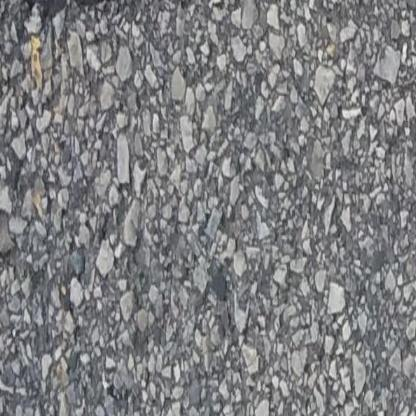Cracks: (0, 0, 146, 12)
